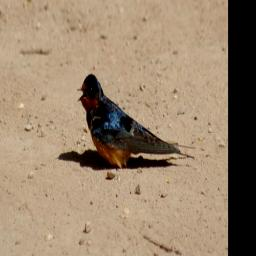Swallow: (77, 72, 195, 166)
